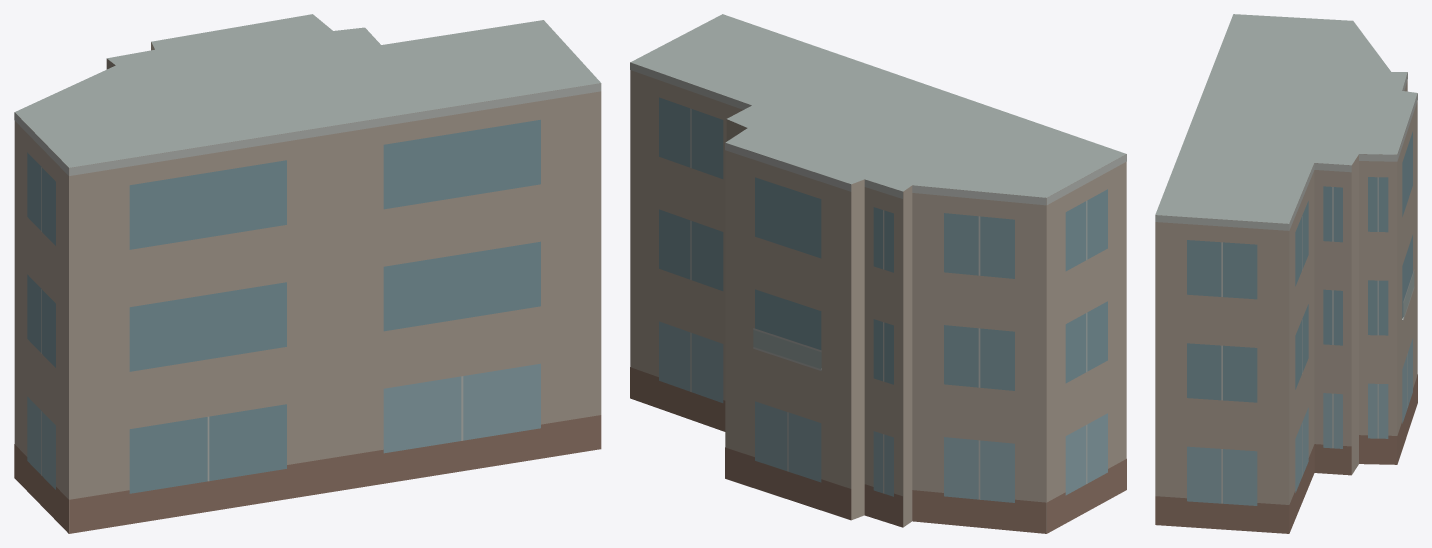
Rendered from survey-upis-32890262.glb.
3 views of the same model, side by side, from view 1: azimuth 30°, elevation 25°; view 2: azimuth 150°, elevation 25°; view 3: azimuth 270°, elevation 25° (orthographic). The views are drawn at different scales.
Visible parts, largest first — view 1: survey-upis-32890262.tmp; view 2: survey-upis-32890262.tmp; view 3: survey-upis-32890262.tmp.
Boxes of the visible parts, x1=… form: survey-upis-32890262.tmp: x1=14, y1=14, x2=601, y2=533; survey-upis-32890262.tmp: x1=630, y1=14, x2=1126, y2=533; survey-upis-32890262.tmp: x1=1155, y1=14, x2=1417, y2=533.
Bounding box in the file's own units: 15.7 × 10.81 × 8.31.
